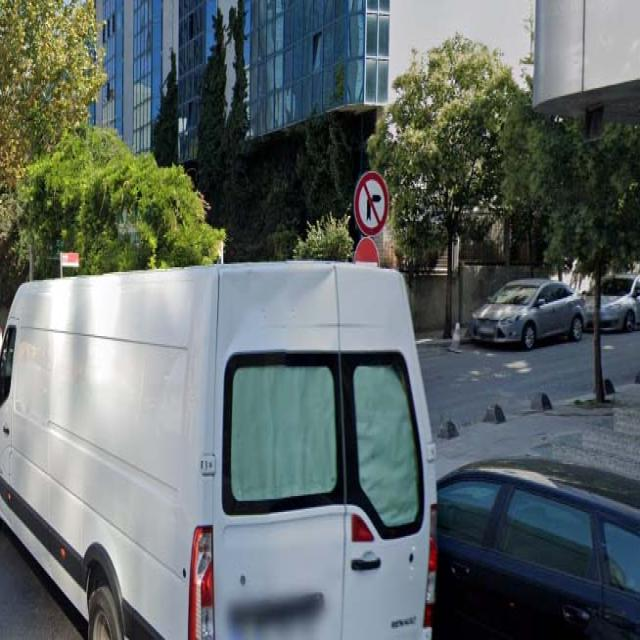sagadonulmez: (354, 170, 390, 235)
